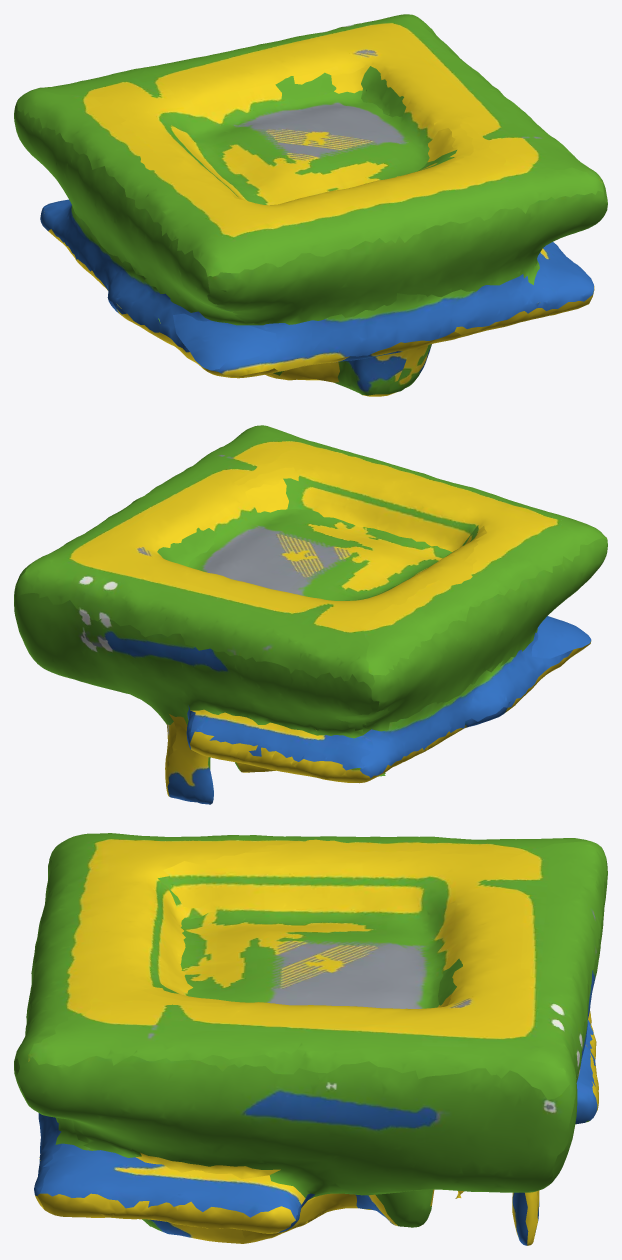
The model's file is trampoline-4.glb.
The picture shows the model from 3 angles, top to bottom: view 1: azimuth 30°, elevation 25°; view 2: azimuth 150°, elevation 25°; view 3: azimuth 270°, elevation 25°; orthographic projection. The views are drawn at different scales.
Parts seen in each view (by area): view 1: geometry_0; view 2: geometry_0; view 3: geometry_0.
Part boxes in pixels (x1,y1,x2,y2): geometry_0: (14,14,607,396); geometry_0: (14,425,607,804); geometry_0: (14,833,607,1245).
Size of the model in its own units: 1.06 by 0.5349 by 1.05.
1 material, 1 textured.
